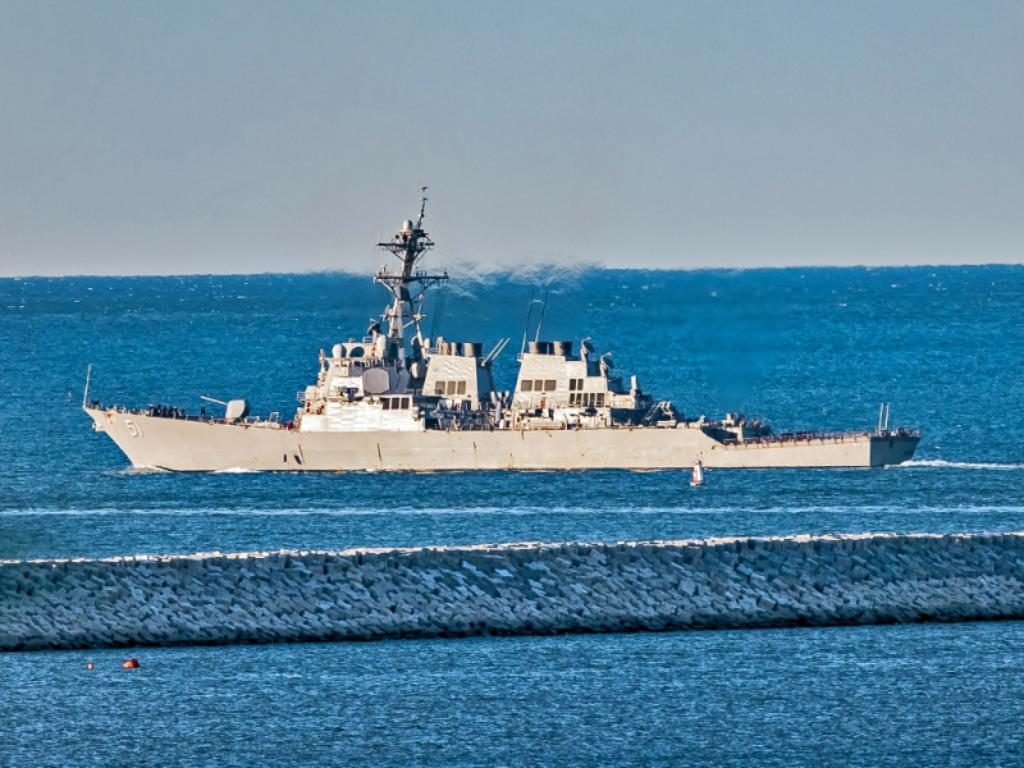Warship: (82, 174, 918, 474)
